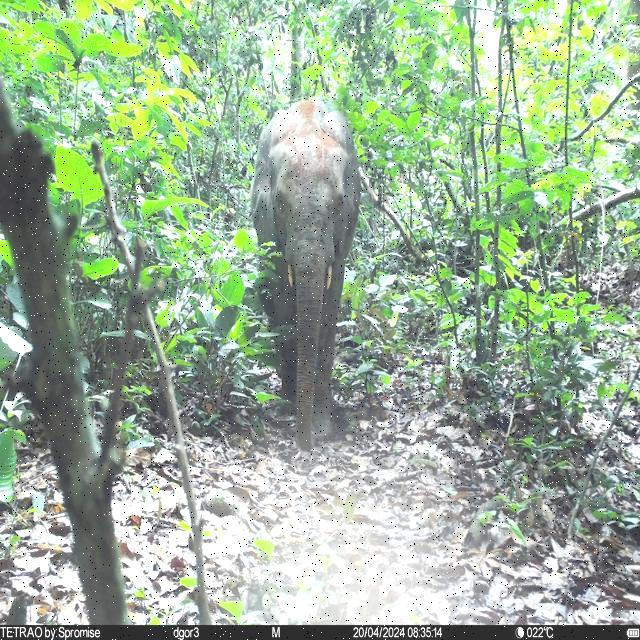ear: (320, 108, 363, 264), (250, 109, 290, 254)
elephant: (250, 98, 364, 452)
tusk: (286, 262, 295, 290), (326, 263, 334, 291)
